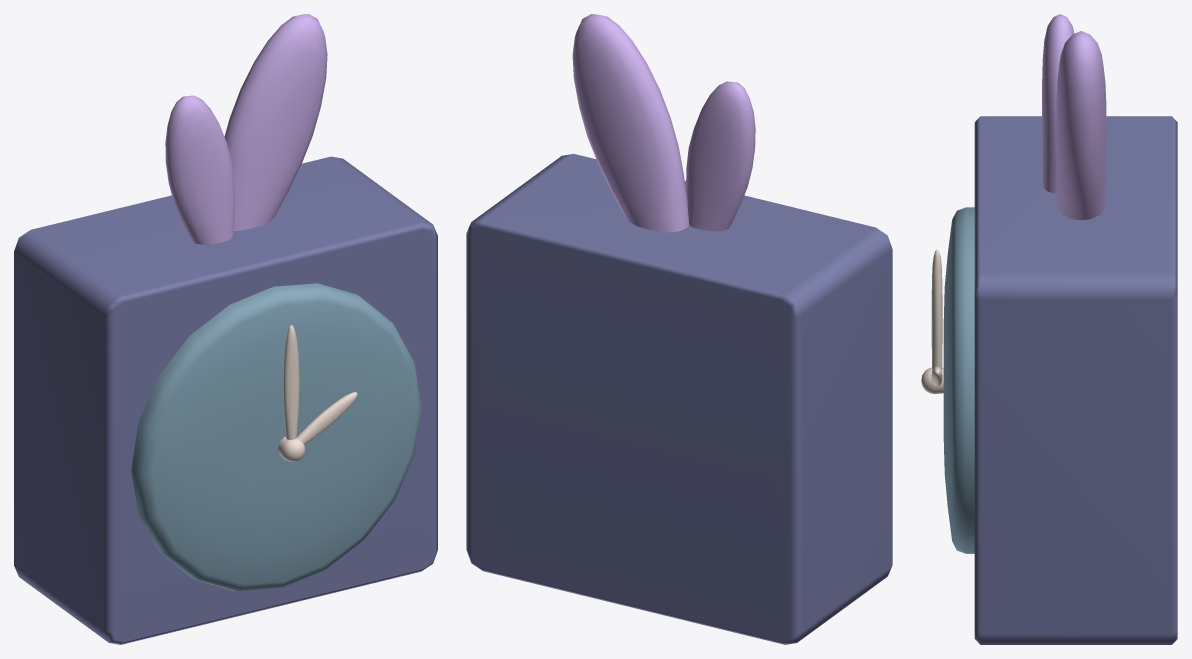
File: Clock_1.glb
3 views of the same model, side by side, from view 1: azimuth 30°, elevation 25°; view 2: azimuth 150°, elevation 25°; view 3: azimuth 270°, elevation 25° (orthographic). The views are drawn at different scales.
Visible parts, largest first — view 1: Clock_1; view 2: Clock_1; view 3: Clock_1.
Boxes of the visible parts, <box> form: Clock_1: <box>14,14,437,644</box>; Clock_1: <box>466,14,892,644</box>; Clock_1: <box>921,14,1177,644</box>.
Bounding box in the file's own units: 0.38 × 0.5871 × 0.238.
Materials: 1 (1 with a texture image).
